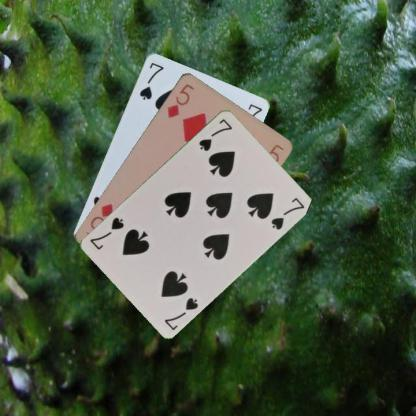5d: (165, 80, 195, 119)
7s: (162, 294, 200, 331), (196, 116, 234, 152), (136, 60, 166, 101)
